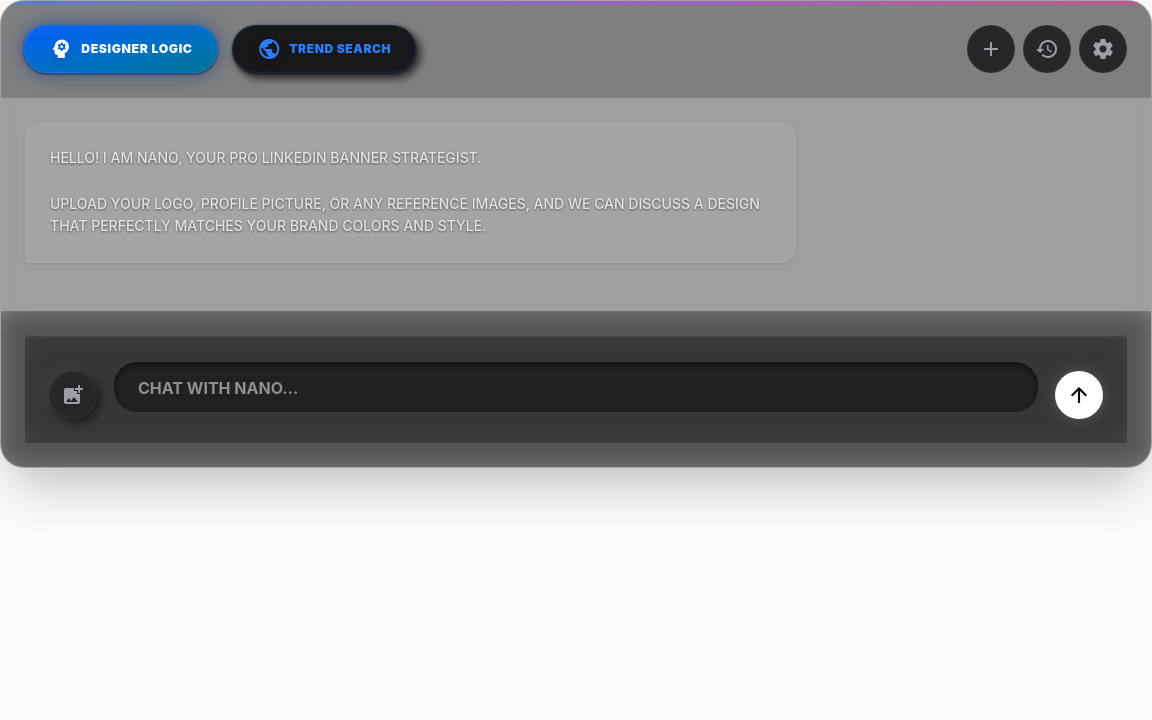
Test: ChatInterface › API Key Validation › should show error when no API keys are configured
Type "Test message" into the text box with placeholder "CHAT WITH NANO..." at point(576, 387), box x1=113 y1=361 x2=1039 y2=413
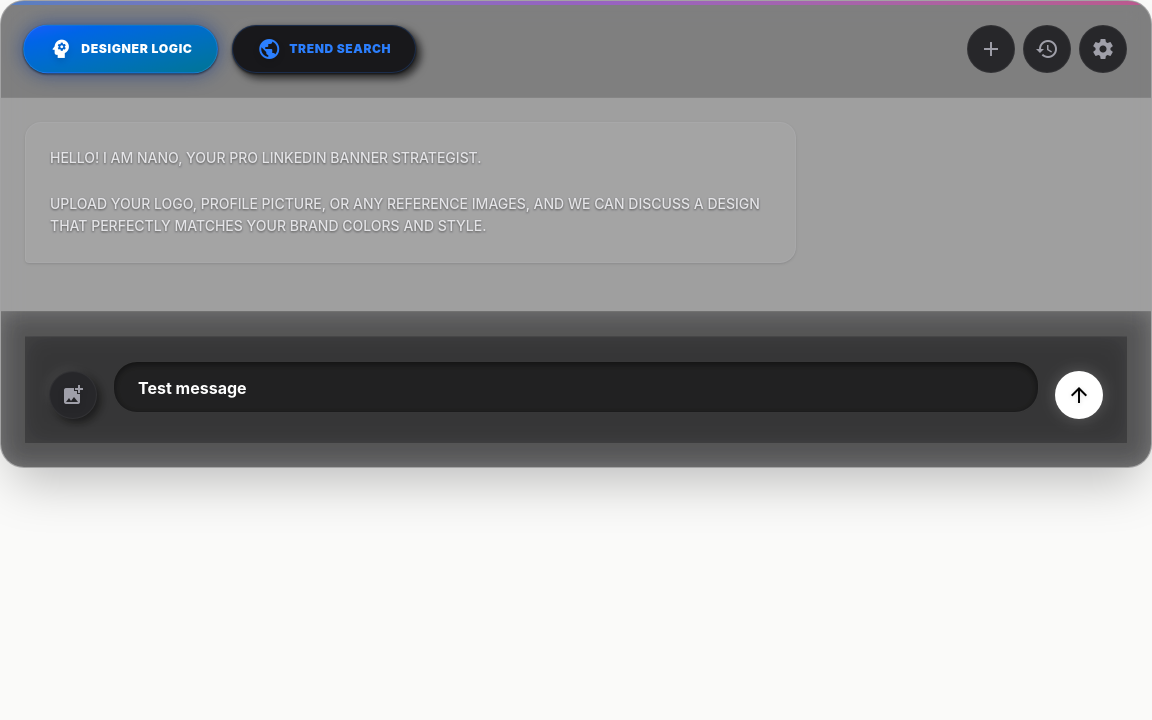
Click the 7th button at point(1079, 395), box x1=1055 y1=371 x2=1103 y2=419
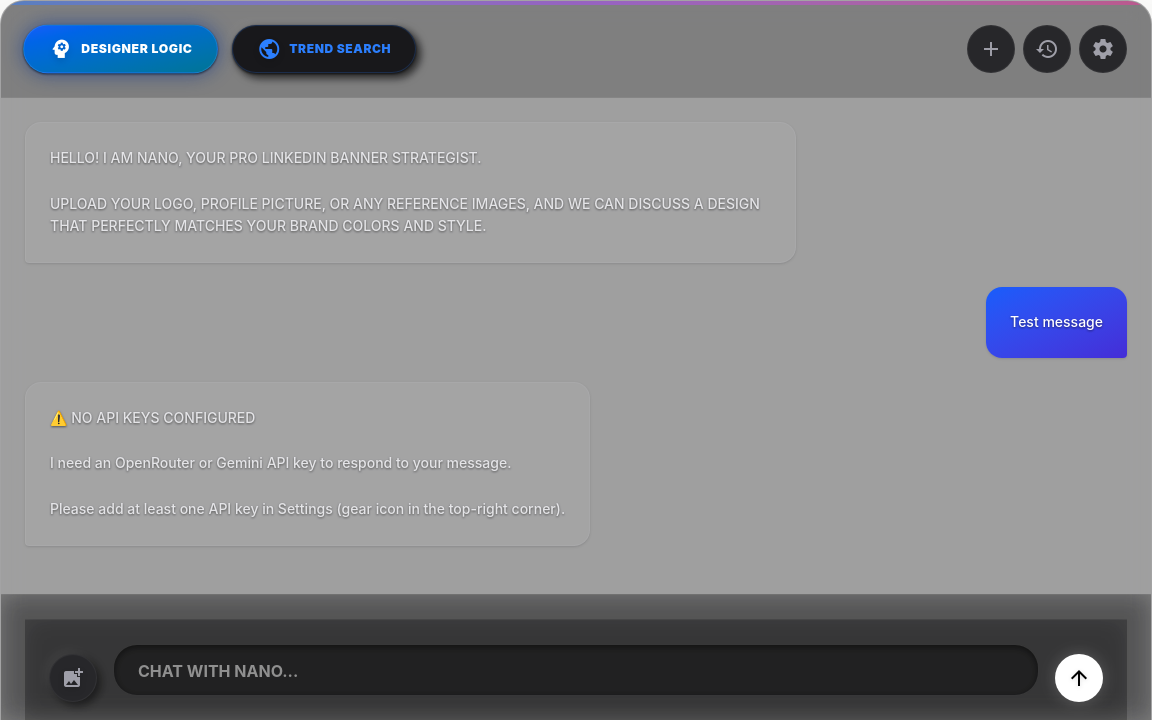
Expected: the text "Please add at least one API key in Settings" is shown, x1=50 y1=409 x2=565 y2=517
